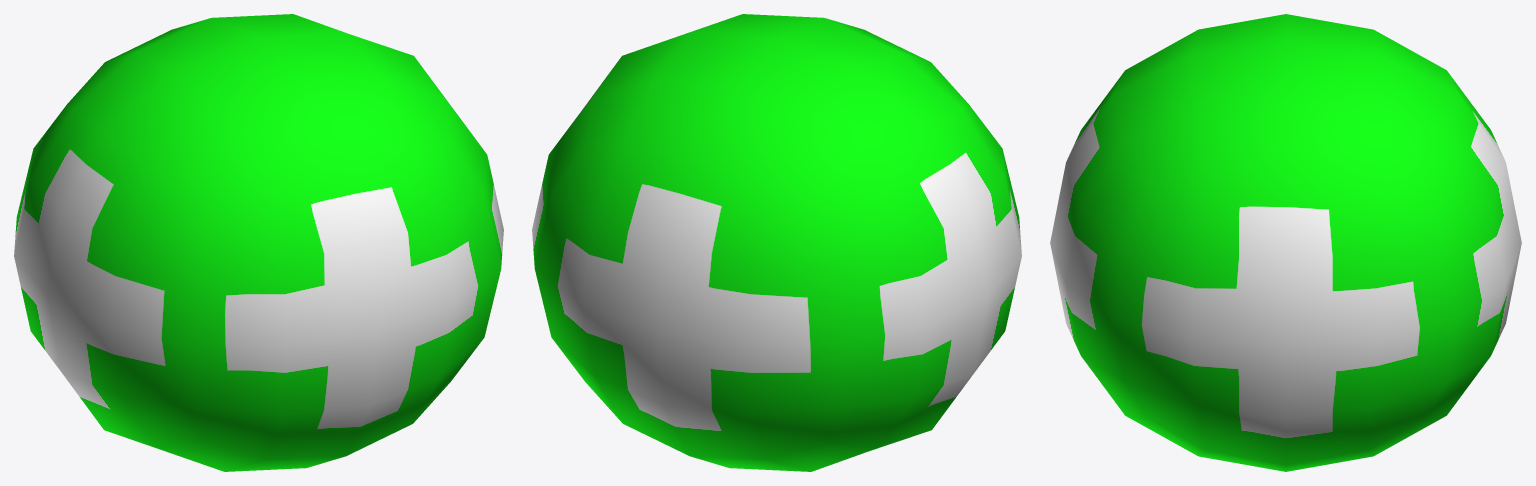
Rendered from Healthpackage3.0.fbx.
3 renders of one model, left to right at view 1: azimuth 30°, elevation 25°; view 2: azimuth 150°, elevation 25°; view 3: azimuth 270°, elevation 25°, orthographic.
Visible parts, largest first — view 1: pCube4; view 2: pCube4; view 3: pCube4.
Boxes of the visible parts, left/top/right/bottom form: pCube4: left=14, top=14, right=503, bottom=471; pCube4: left=532, top=14, right=1021, bottom=471; pCube4: left=1050, top=14, right=1521, bottom=471.
Bounding box in the file's own units: 2.39 × 2.2 × 2.33.
1 material, 1 textured.
